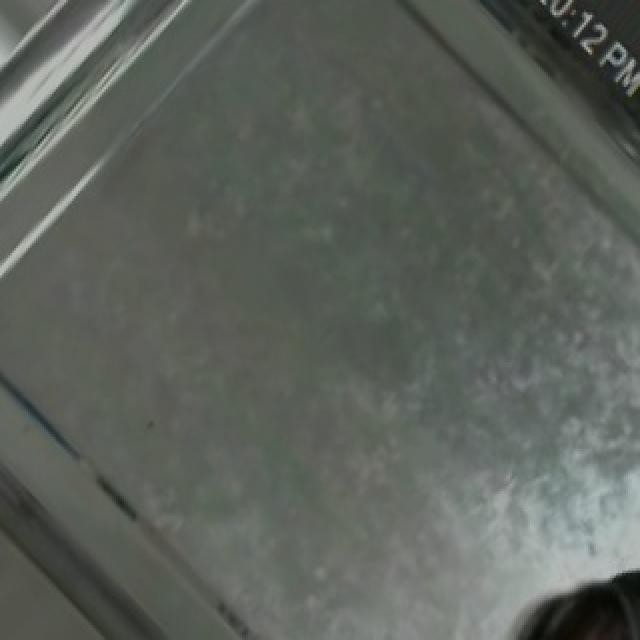Fruit: (516, 555, 640, 640)
